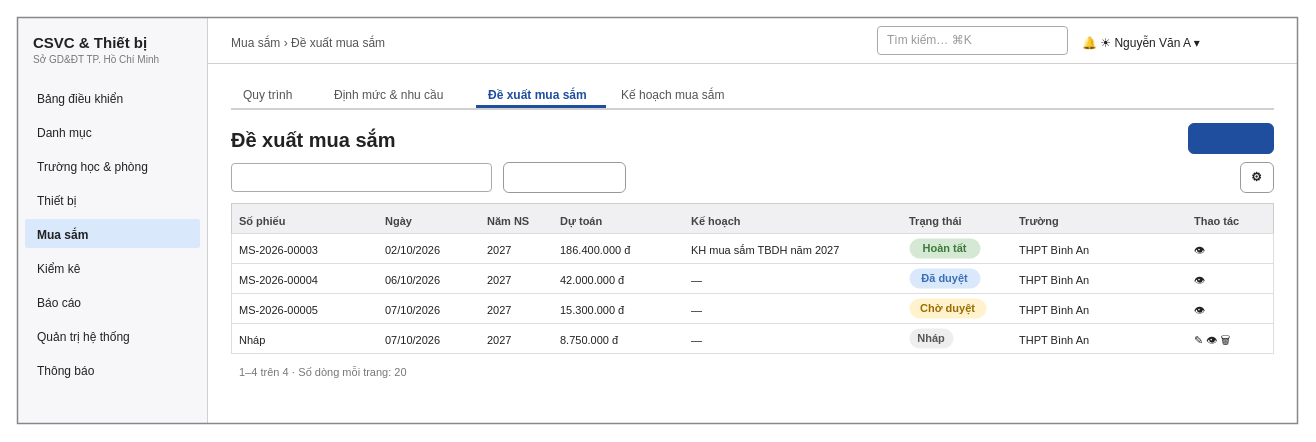
The diagram is 1316 pixels wide and 442 high, and some of its shapes have lost their labels. Here are the shapes that lost their labels. From the top down, the centre of each, then its label:
At point (1231, 138): "Thêm mới".
At point (361, 177): "Tìm nhanh…".
At point (564, 177): "Chờ tôi duyệt".
